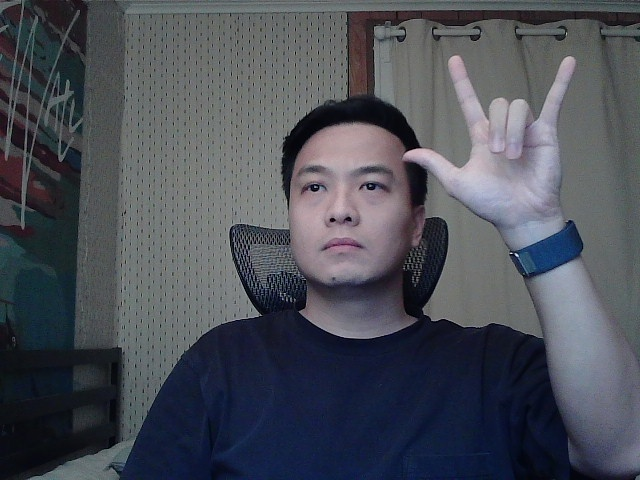I Love You: (393, 41, 593, 255)
